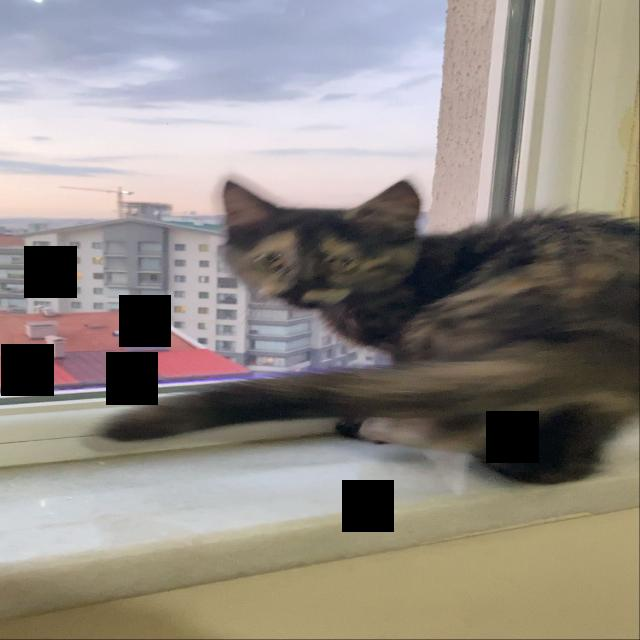authorized: (96, 176, 638, 486)
